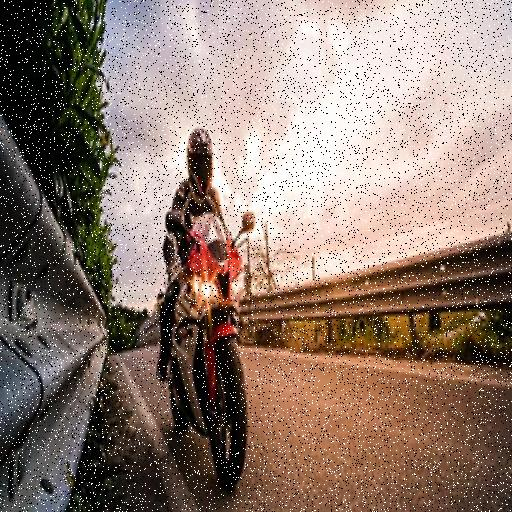Helmet: (187, 128, 212, 197)
Motor: (166, 212, 254, 488)
